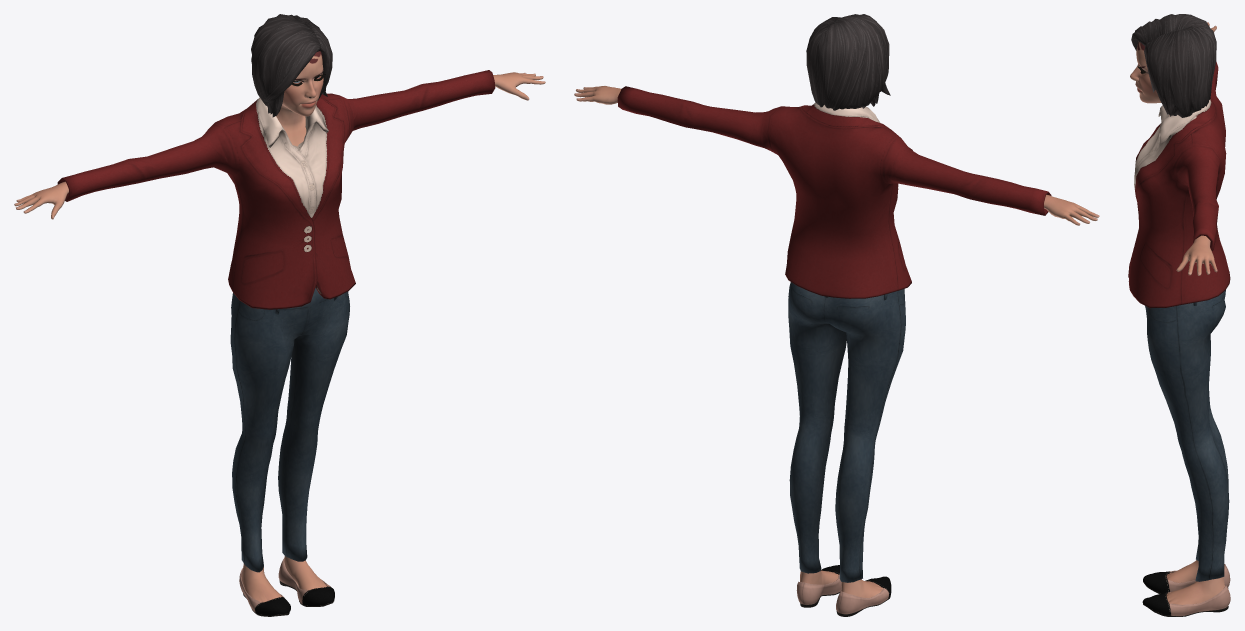
Rendered from teacher.obj.
3 views of the same model, side by side, from view 1: azimuth 30°, elevation 25°; view 2: azimuth 150°, elevation 25°; view 3: azimuth 270°, elevation 25° (orthographic).
Visible parts, largest first — view 1: Tops, Bottoms, Body, Hair, Shoes; view 2: Tops, Bottoms, Hair, Body, Shoes; view 3: Tops, Bottoms, Hair, Body, Shoes.
Part boxes in pixels (x1=…): Tops: x1=57, y1=70, x2=495, y2=309; Bottoms: x1=230, y1=288, x2=349, y2=572; Body: x1=14, y1=51, x2=545, y2=602; Hair: x1=251, y1=14, x2=332, y2=117; Shoes: x1=239, y1=558, x2=334, y2=616; Tops: x1=617, y1=86, x2=1051, y2=298; Bottoms: x1=788, y1=282, x2=905, y2=582; Hair: x1=806, y1=14, x2=890, y2=110; Body: x1=574, y1=86, x2=1099, y2=599; Shoes: x1=796, y1=565, x2=891, y2=616; Tops: x1=1128, y1=62, x2=1230, y2=308; Bottoms: x1=1145, y1=290, x2=1229, y2=581; Hair: x1=1131, y1=14, x2=1216, y2=117; Body: x1=1130, y1=22, x2=1224, y2=609; Shoes: x1=1142, y1=564, x2=1230, y2=616.
Size of the model in its own units: 158 by 167 by 26.65.
Materials: 5 (5 with a texture image).
